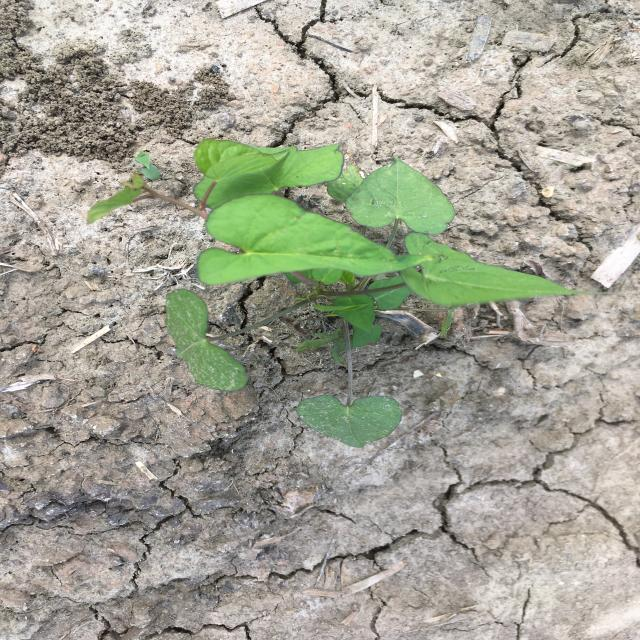MorningGlory: (87, 138, 613, 448)
